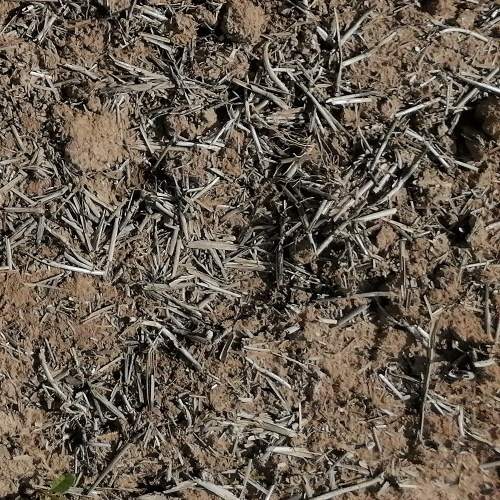beet: (36, 473, 76, 500)
